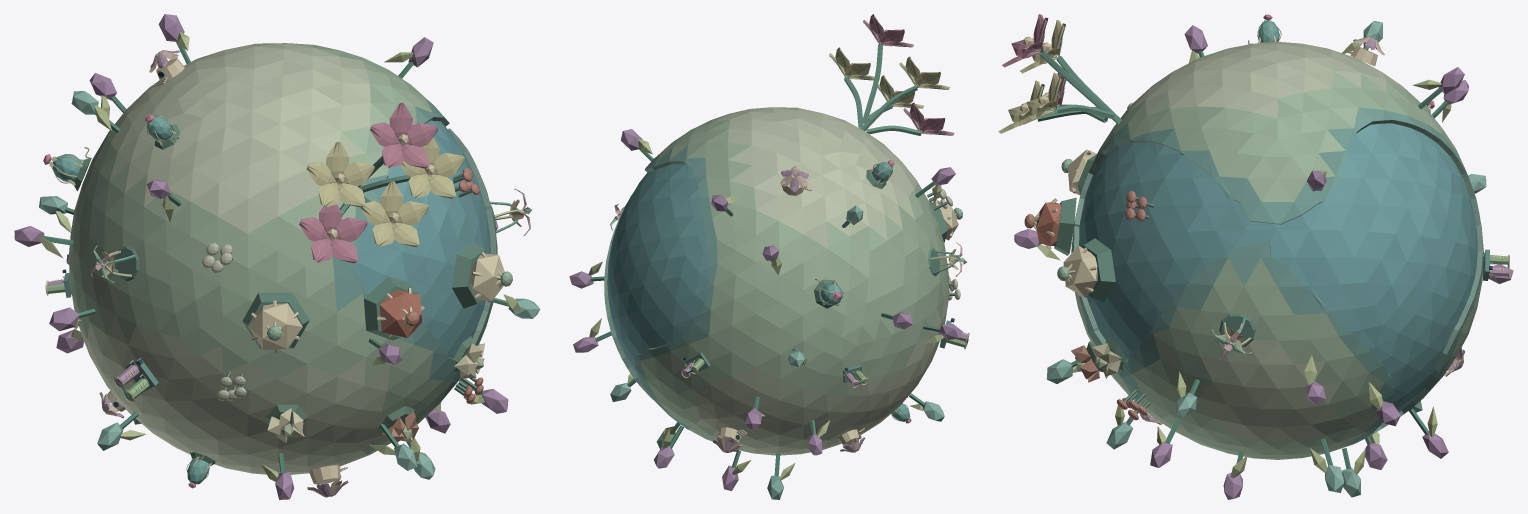
File: earth.glb
3 views of the same model, side by side, from view 1: azimuth 30°, elevation 25°; view 2: azimuth 150°, elevation 25°; view 3: azimuth 270°, elevation 25° (orthographic). The views are drawn at different scales.
Parts seen in each view (by area): view 1: Terrain • modeled surfaces, Structures • modeled surfaces; view 2: Terrain • modeled surfaces, Structures • modeled surfaces; view 3: Terrain • modeled surfaces, Structures • modeled surfaces.
Boxes of the visible parts, x1,y1,x2,y2 form: Terrain • modeled surfaces: (69, 43, 497, 474); Structures • modeled surfaces: (14, 14, 540, 499); Terrain • modeled surfaces: (604, 107, 949, 455); Structures • modeled surfaces: (569, 14, 969, 499); Terrain • modeled surfaces: (1071, 42, 1483, 459); Structures • modeled surfaces: (998, 14, 1513, 499).
Size of the model in its own units: 2.54 by 2.43 by 2.53.
